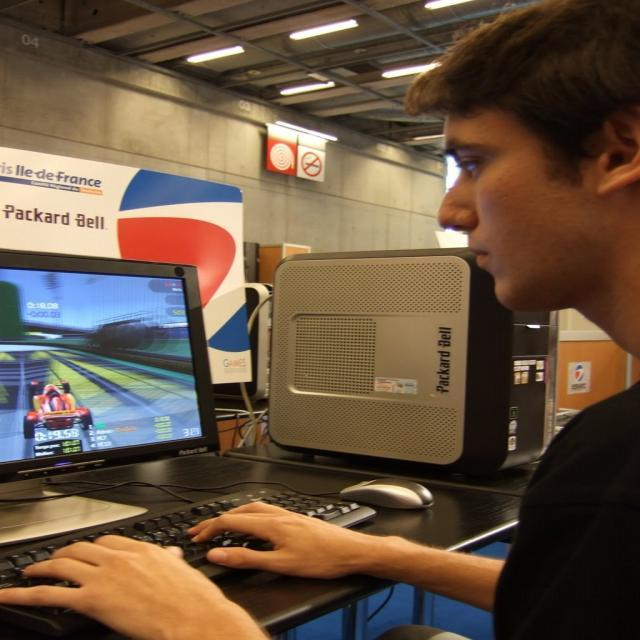others: (1, 238, 492, 640)
